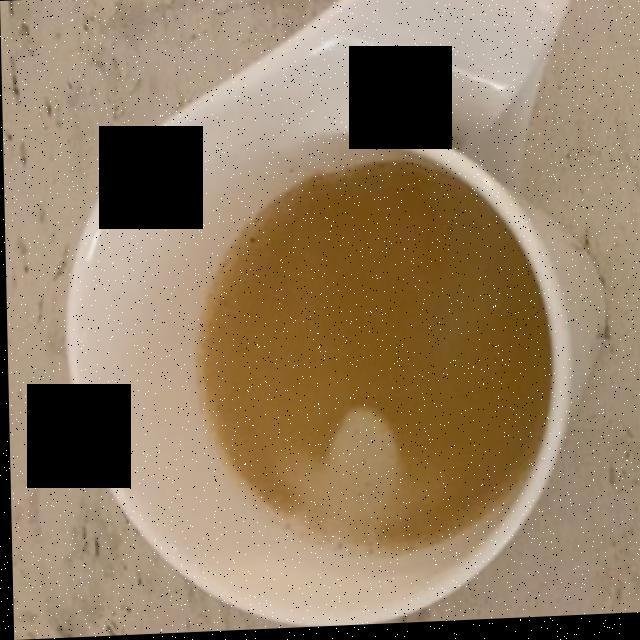coffee: (200, 172, 540, 552)
